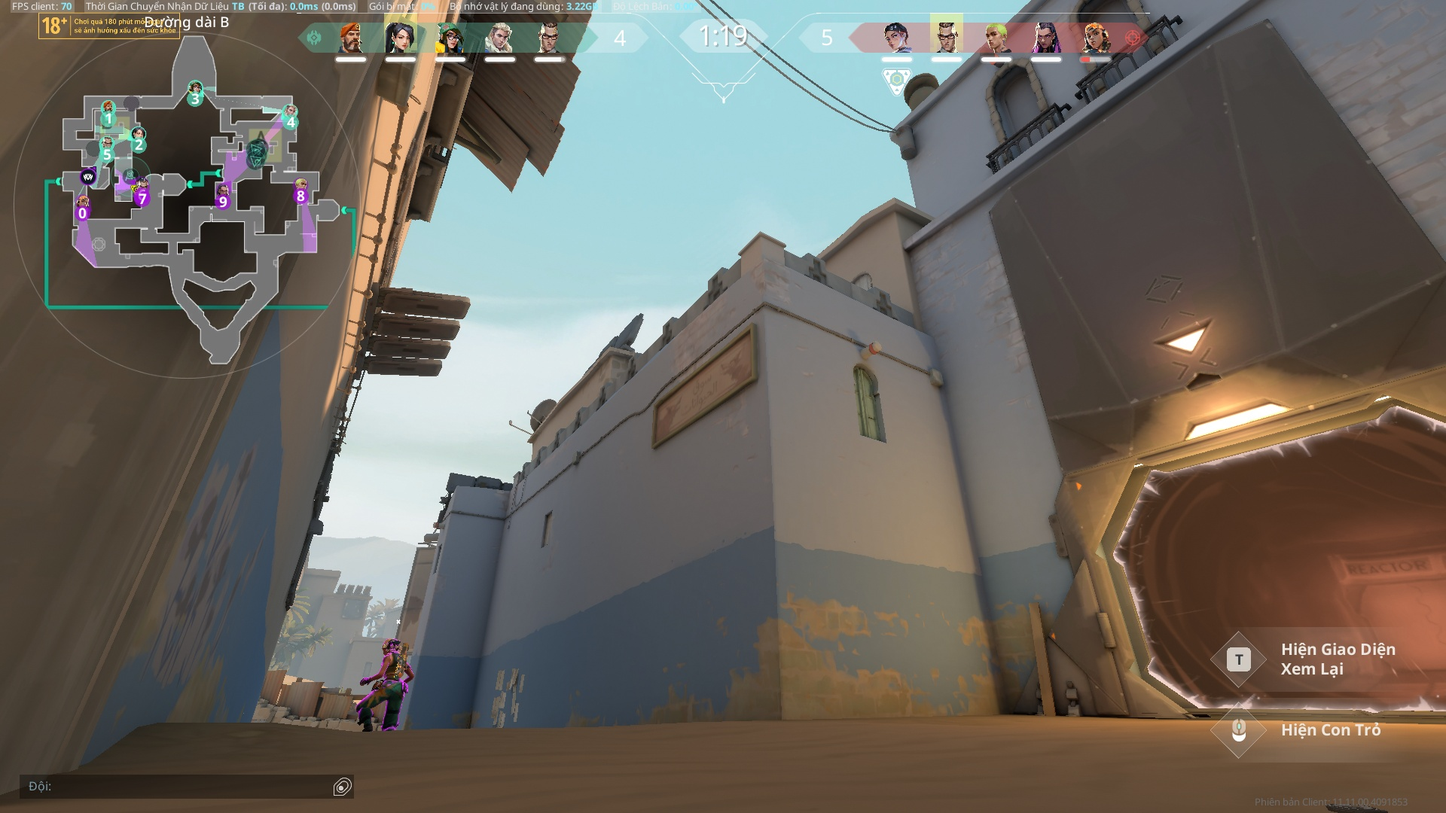body: (383, 651, 403, 679)
head: (383, 637, 398, 653)
